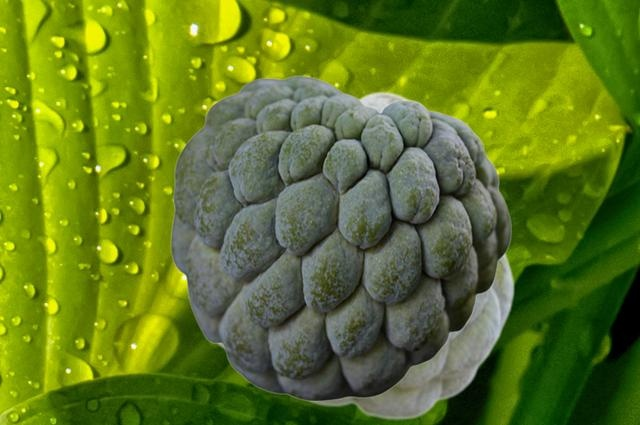atis: (170, 75, 510, 400), (215, 90, 514, 419)
